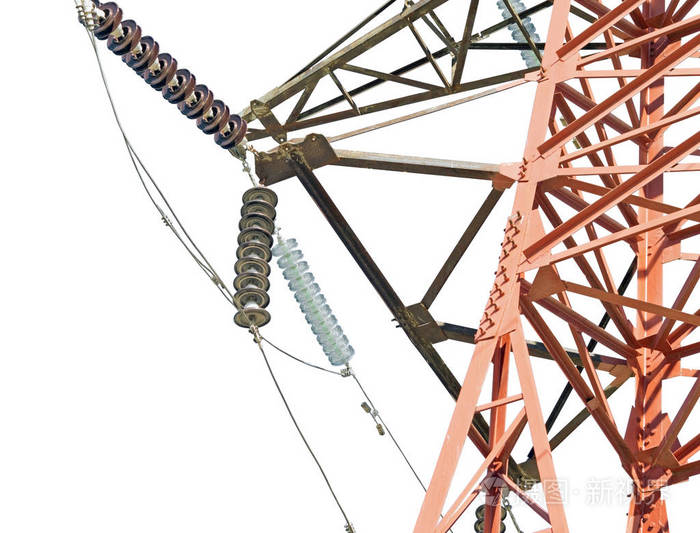insulator: (89, 1, 249, 150), (274, 235, 355, 366), (231, 184, 277, 330), (496, 1, 541, 65)
